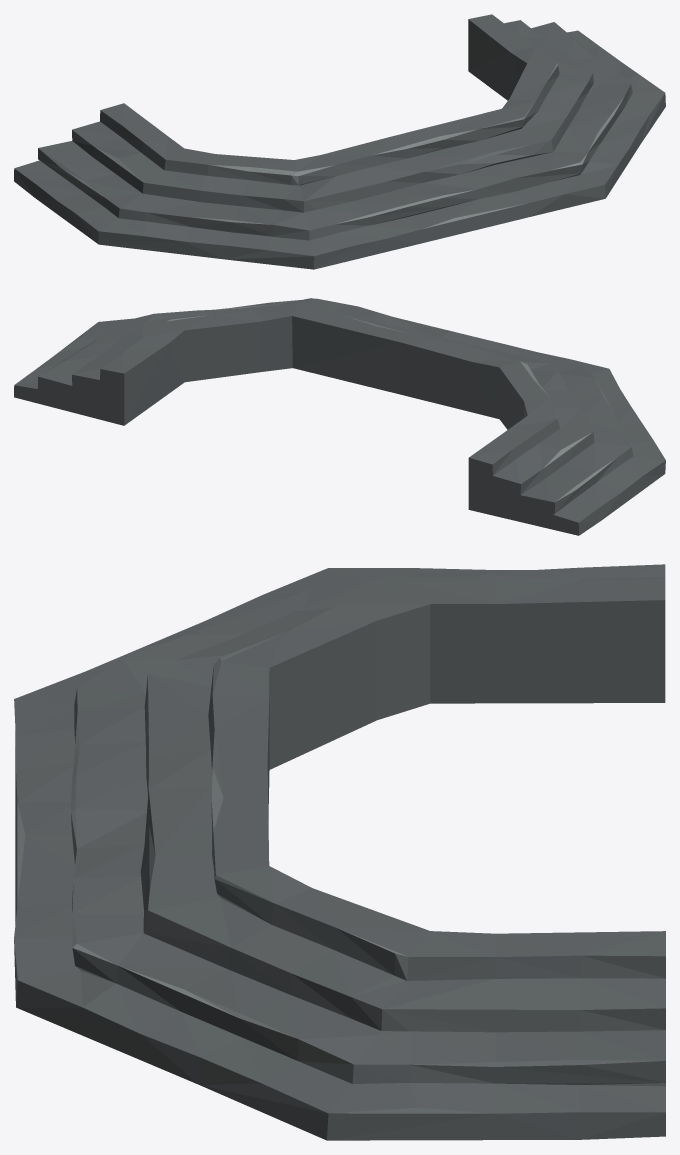
Rendered from MCastle_Steps_04.FBX.
3 views of the same model, one above another, from view 1: azimuth 30°, elevation 25°; view 2: azimuth 150°, elevation 25°; view 3: azimuth 270°, elevation 25° (orthographic). The views are drawn at different scales.
Visible parts, largest first — view 1: MCastle_Steps_04_LOD0; view 2: MCastle_Steps_04_LOD0; view 3: MCastle_Steps_04_LOD0.
Boxes of the visible parts, <box> form: MCastle_Steps_04_LOD0: <box>14,14,665,269</box>; MCastle_Steps_04_LOD0: <box>14,298,665,535</box>; MCastle_Steps_04_LOD0: <box>14,564,665,1140</box>.
Size of what is drawn, in the model's own units: 7.91 by 0.7003 by 3.99.
